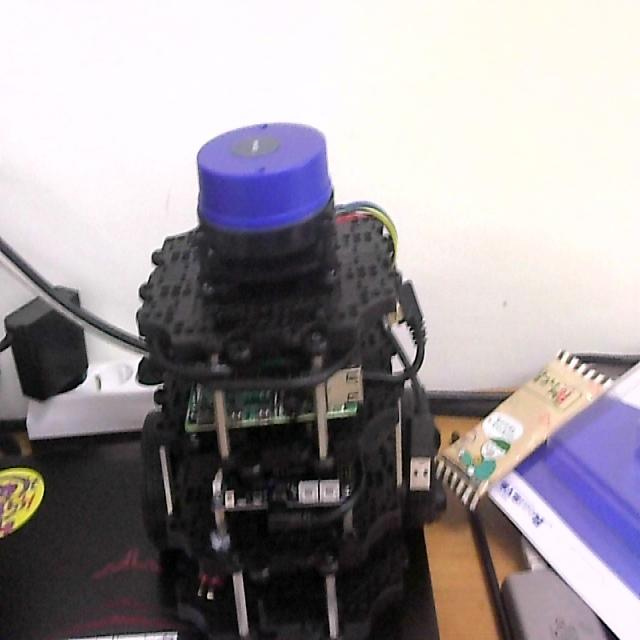turtle: (135, 121, 434, 640)
